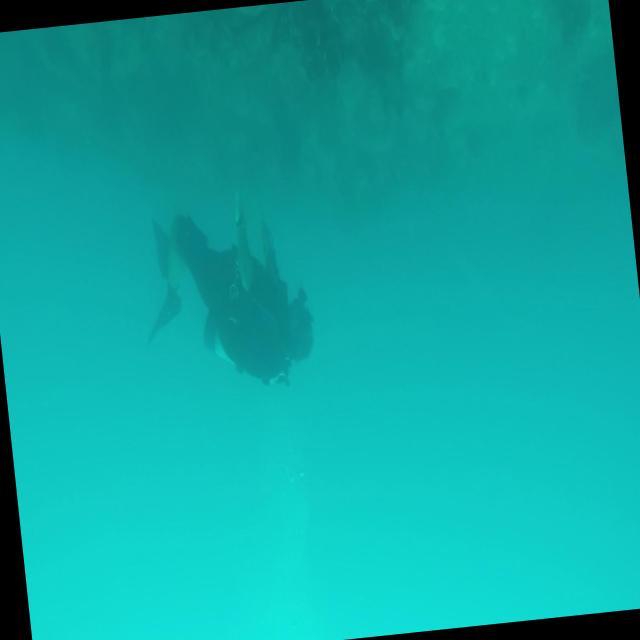human: (134, 180, 320, 402)
